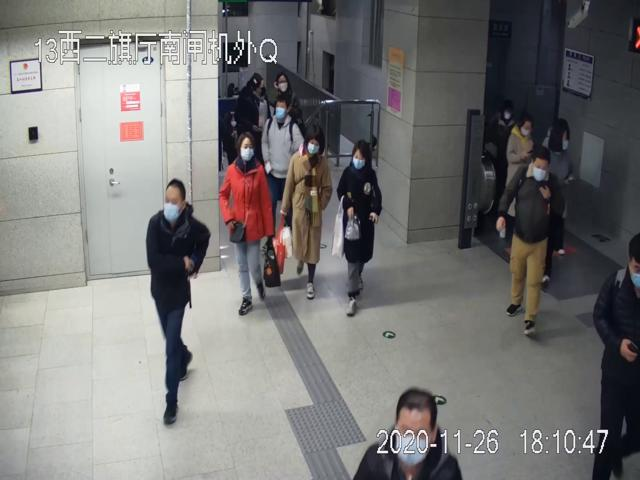person: (145, 178, 211, 418), (498, 145, 561, 336), (220, 132, 275, 319), (282, 126, 333, 300), (335, 140, 383, 316), (260, 102, 303, 237)
